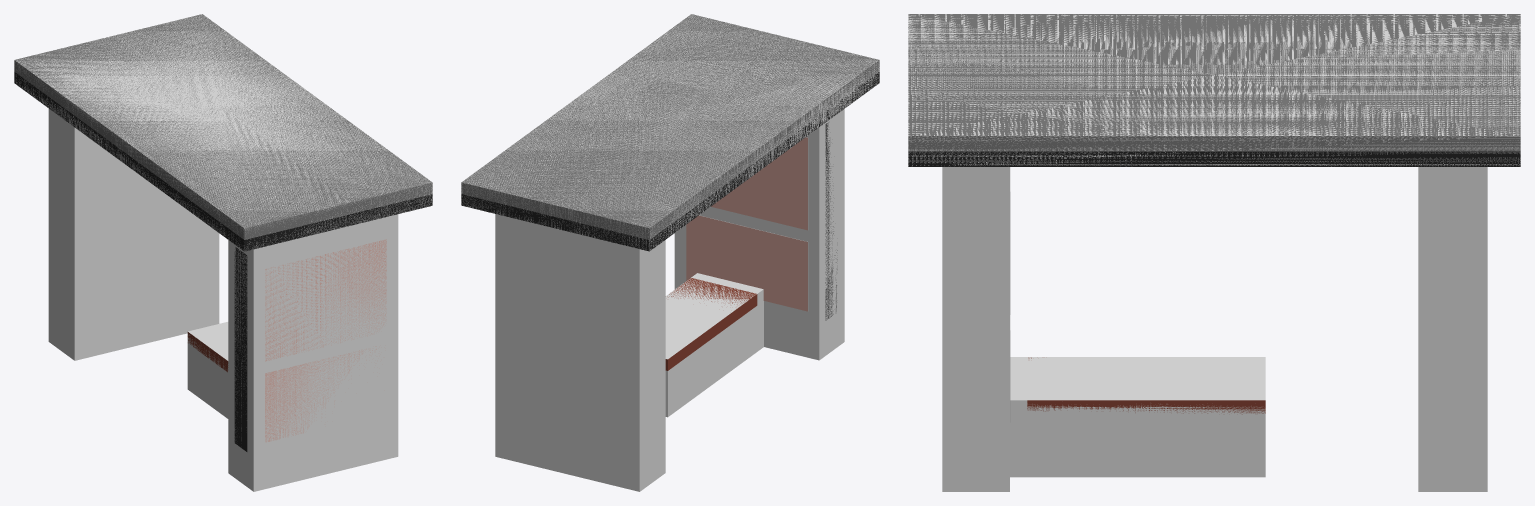
Rendered from BusStop1_B2_1_01.FBX.
The picture shows the model from 3 angles, left to right: view 1: azimuth 30°, elevation 25°; view 2: azimuth 150°, elevation 25°; view 3: azimuth 270°, elevation 25°; orthographic projection. The views are drawn at different scales.
Parts seen in each view (by area): view 1: BusStop1_B2_1_Damage_1_01, BusStop1_B2_Live_1_01; view 2: BusStop1_B2_1_Damage_1_01, BusStop1_B2_Live_1_01; view 3: BusStop1_B2_1_Damage_1_01, BusStop1_B2_Live_1_01.
Boxes of the visible parts, box(x1,y1,x2,y2) form: BusStop1_B2_1_Damage_1_01: box(14, 14, 432, 491); BusStop1_B2_Live_1_01: box(14, 14, 432, 451); BusStop1_B2_1_Damage_1_01: box(461, 14, 879, 491); BusStop1_B2_Live_1_01: box(461, 14, 879, 370); BusStop1_B2_1_Damage_1_01: box(908, 14, 1520, 491); BusStop1_B2_Live_1_01: box(908, 14, 1520, 422).
Size of the model in its own units: 2.55 by 3.6 by 5.4.
